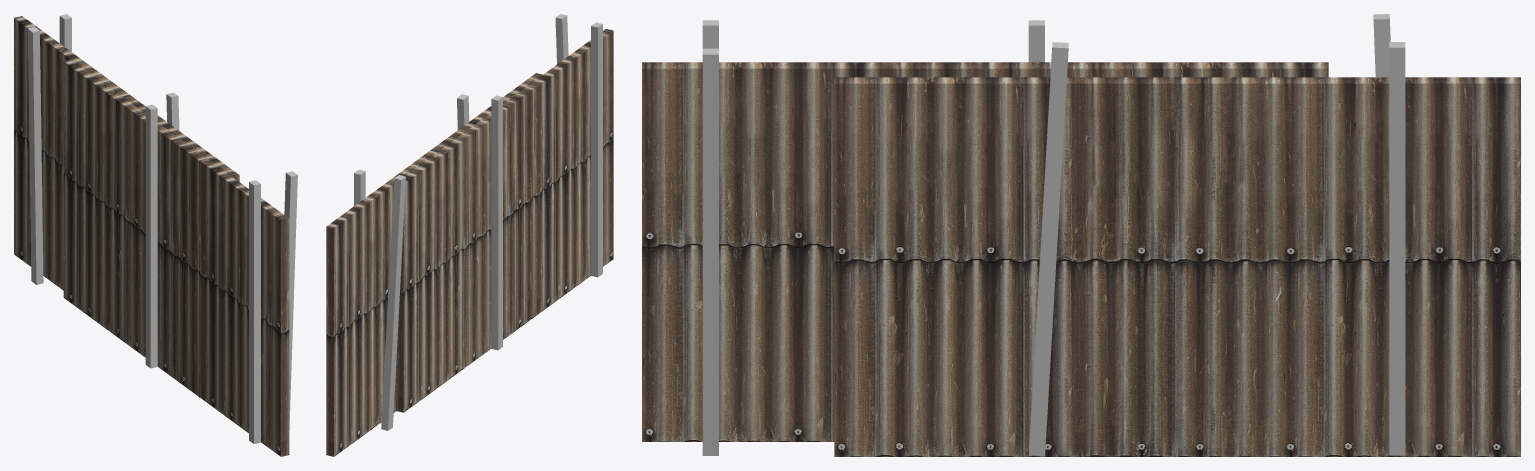
Rendered from steel_plates.fbx.
The picture shows the model from 3 angles, left to right: view 1: azimuth 30°, elevation 25°; view 2: azimuth 150°, elevation 25°; view 3: azimuth 270°, elevation 25°; orthographic projection. The views are drawn at different scales.
Visible parts, largest first — view 1: Mesh Object; view 2: Mesh Object; view 3: Mesh Object.
Boxes of the visible parts, x1,y1,x2,y2 form: Mesh Object: [14, 14, 297, 456]; Mesh Object: [326, 14, 613, 456]; Mesh Object: [642, 14, 1520, 456].
Bounding box in the file's own units: 0.363 × 1.74 × 3.33.
